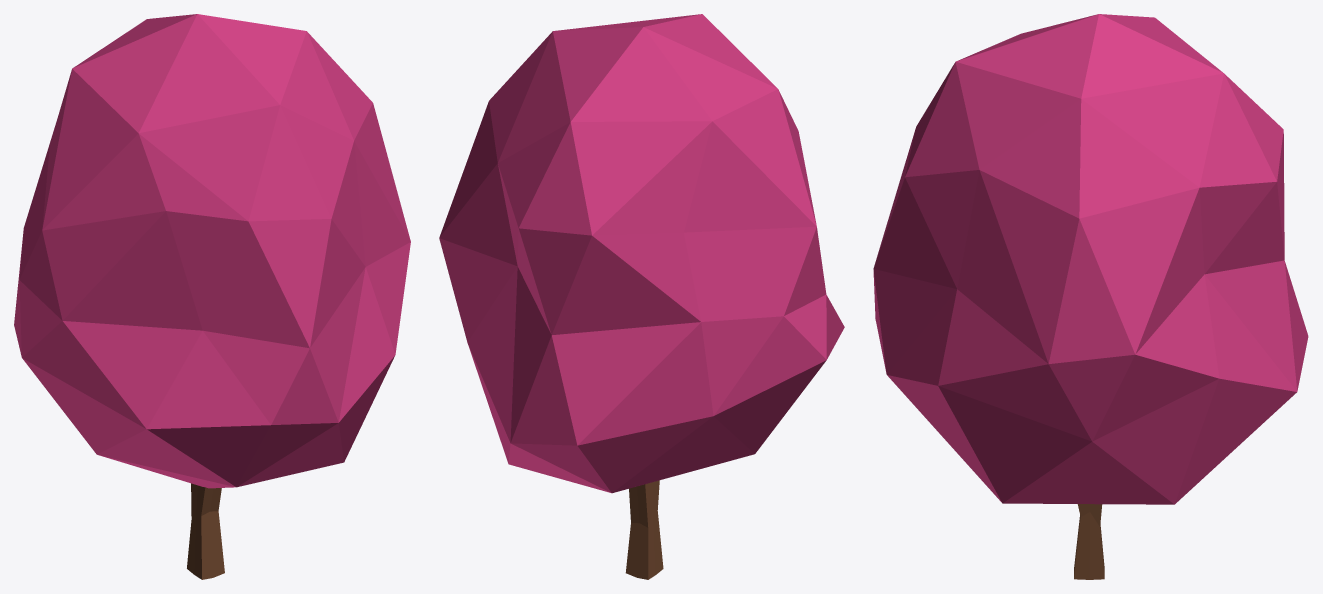
File: Tree_2_Pink.fbx
3 renders of one model, left to right at view 1: azimuth 30°, elevation 25°; view 2: azimuth 150°, elevation 25°; view 3: azimuth 270°, elevation 25°, orthographic.
Parts seen in each view (by area): view 1: Tree_2_Pink_Part_1, Tree_2_Pink_Part_2; view 2: Tree_2_Pink_Part_1, Tree_2_Pink_Part_2; view 3: Tree_2_Pink_Part_1, Tree_2_Pink_Part_2.
Boxes of the visible parts, x1=… form: Tree_2_Pink_Part_1: x1=14, y1=14, x2=410, y2=488; Tree_2_Pink_Part_2: x1=187, y1=483, x2=224, y2=579; Tree_2_Pink_Part_1: x1=439, y1=14, x2=844, y2=493; Tree_2_Pink_Part_2: x1=625, y1=480, x2=663, y2=579; Tree_2_Pink_Part_1: x1=873, y1=14, x2=1308, y2=504; Tree_2_Pink_Part_2: x1=1074, y1=504, x2=1104, y2=579.
Bounding box in the file's own units: 550 × 792 × 557.
